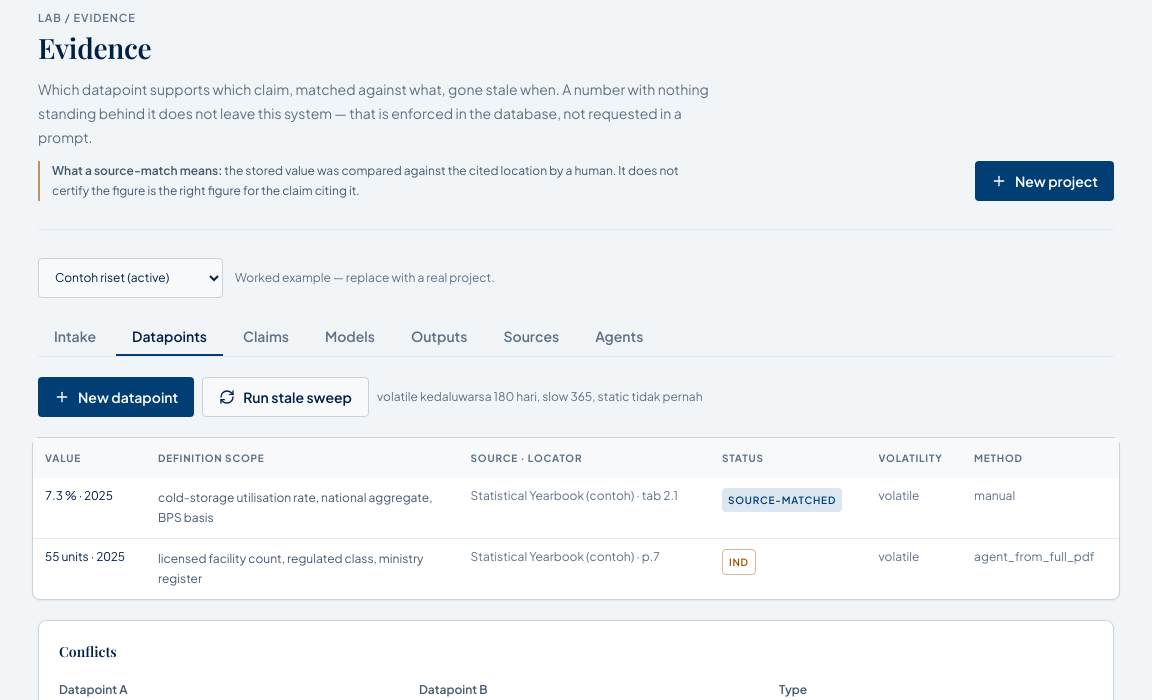
Test case: the acceptance test: an unbacked figure cannot leave the system › blocks the save, names the offending number, and offers the two routes forward
Step 1. Click the tab "Outputs" → (439, 337), box [395, 318, 484, 356]
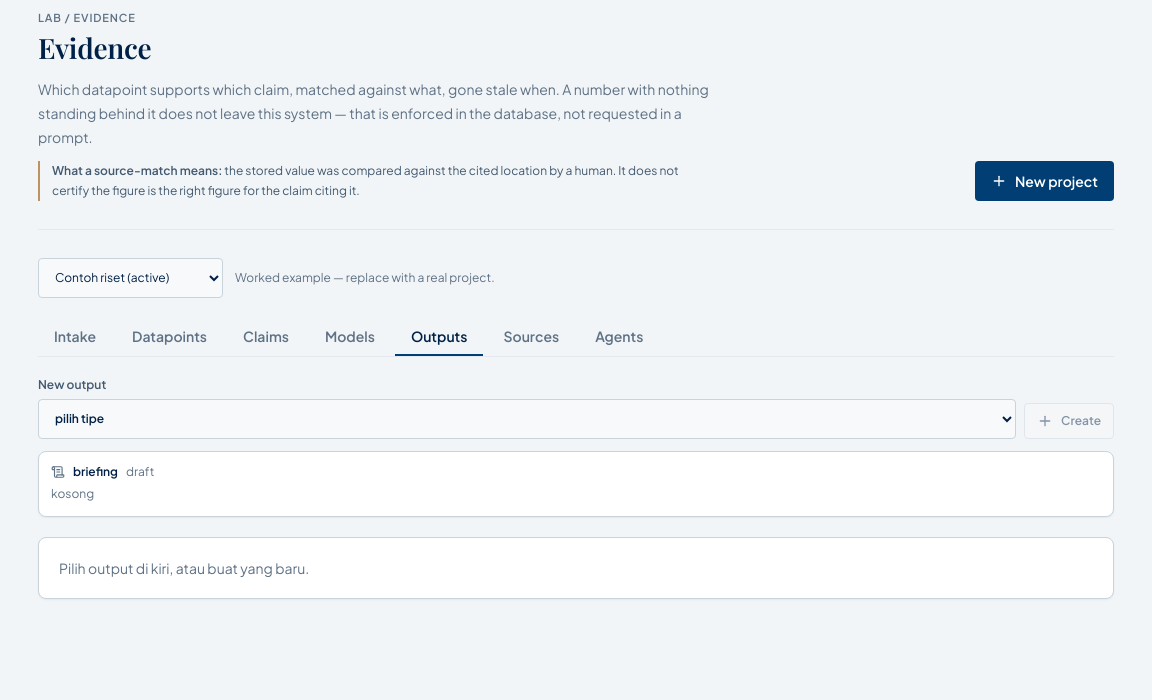
Step 2. Click the button "briefing draft kosong" → (95, 471), box [38, 451, 1114, 517]
(page scrolled)
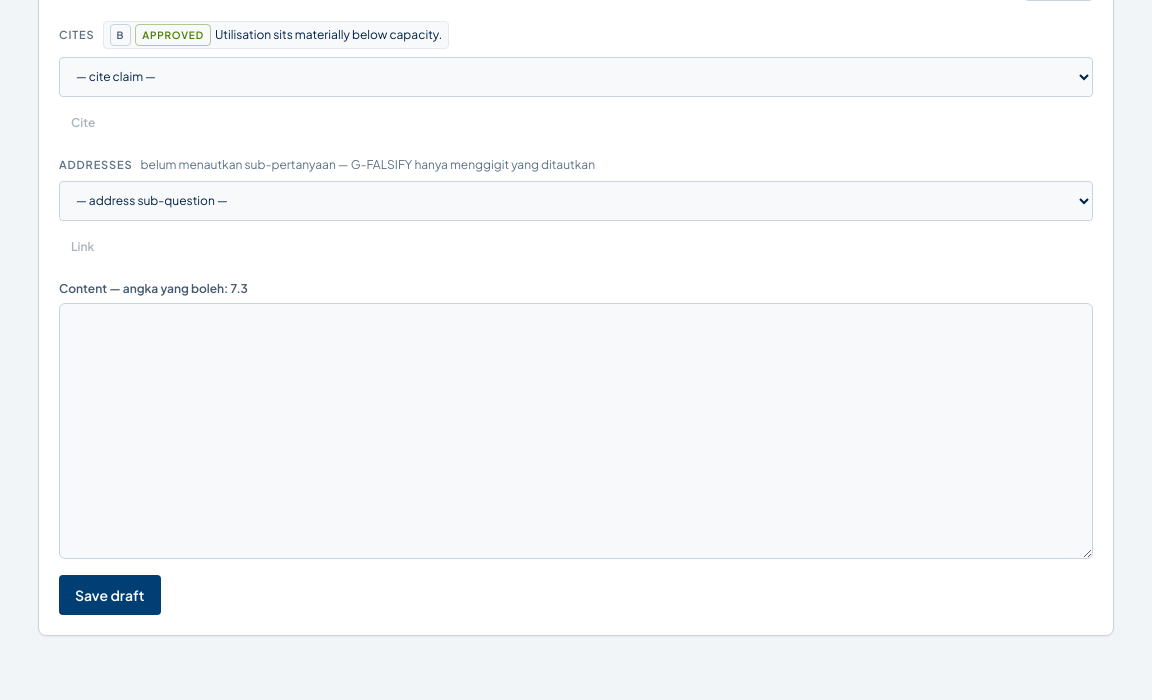
Step 3. Type "Utilisation stands at 7.3 percent. Capacity reached 9,100 units." into the text box labelled "Content — angka yang boleh: 7.3" → (576, 431), box [59, 303, 1093, 559]
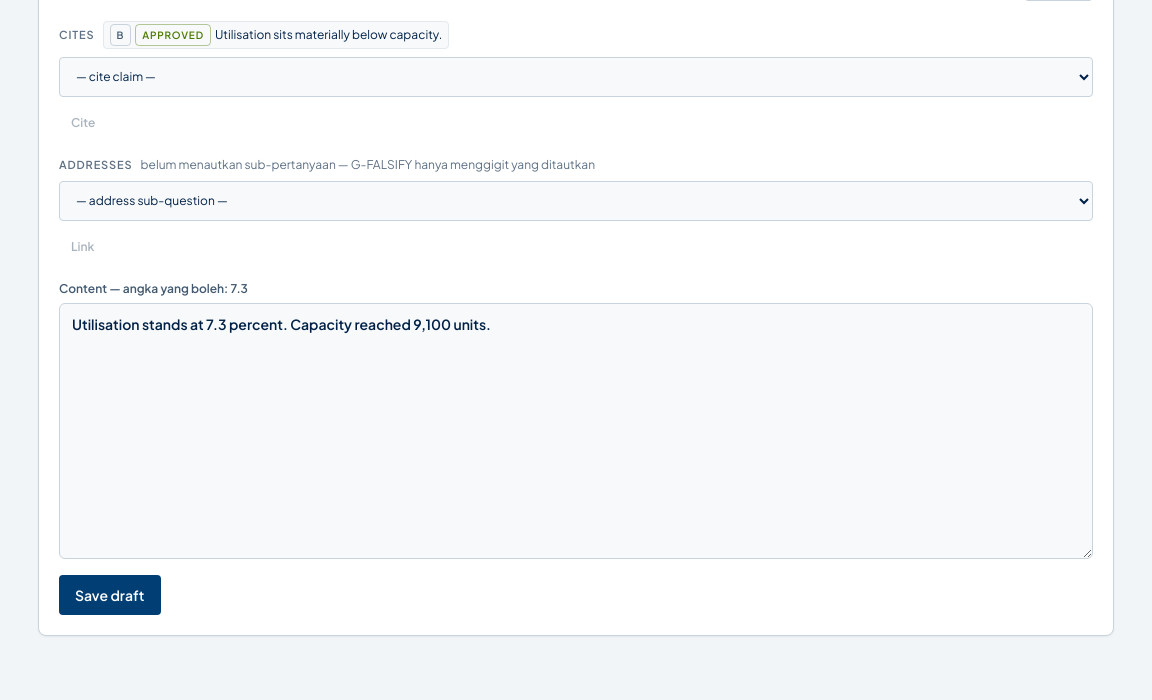
Step 4. Click the button "Save draft" → (110, 595), box [59, 575, 160, 615]
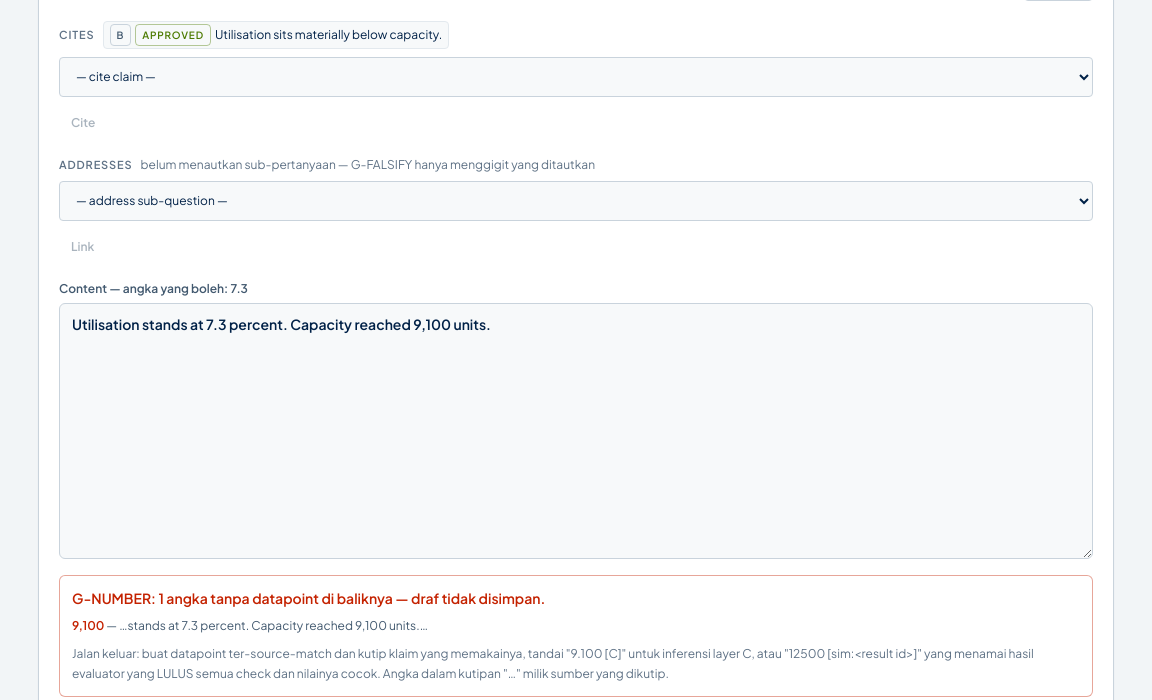
Result: the text "9,100" is shown at [72, 618, 104, 633]
Result: the message shows "[C]" at [570, 646, 622, 661]
Result: the message shows "datapoint" at [164, 589, 545, 607]
